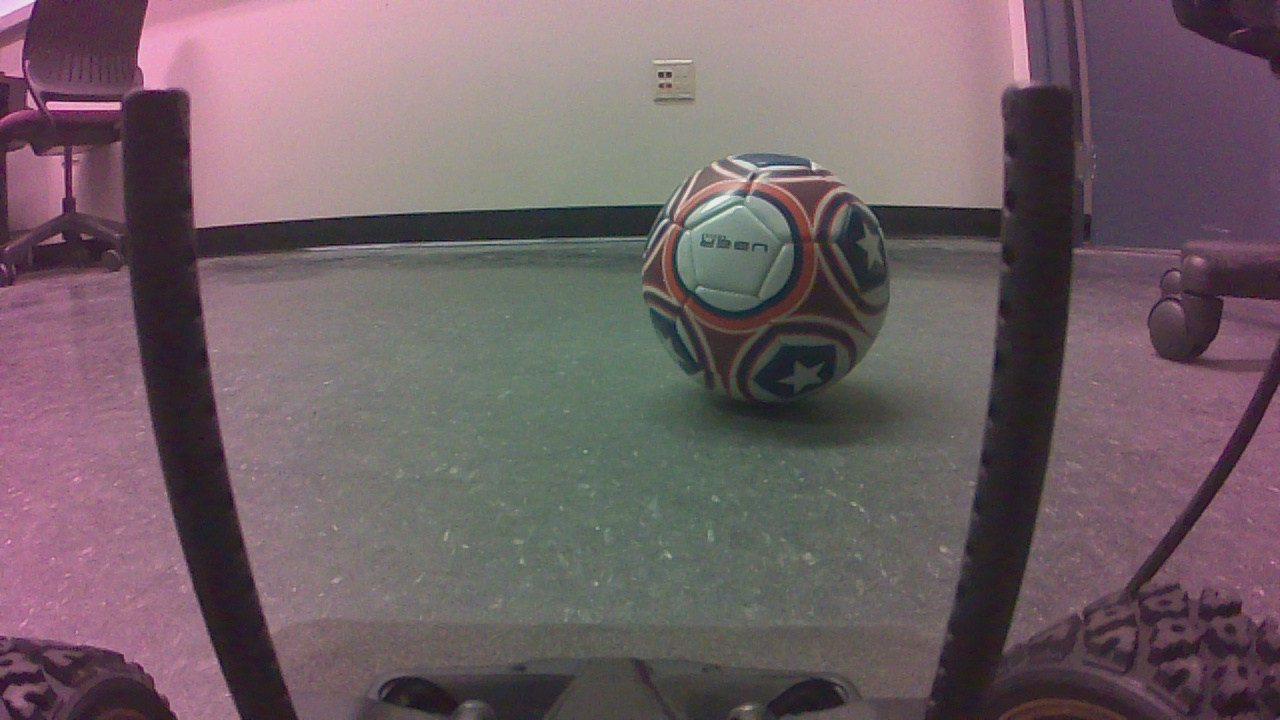ball: (650, 152, 896, 412)
